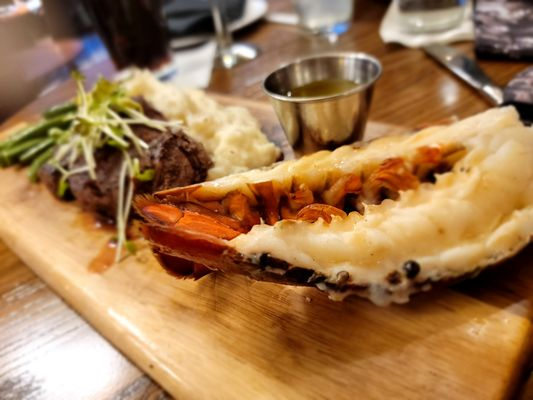pizza: (263, 52, 383, 158), (471, 0, 533, 62), (295, 0, 356, 41)
soup: (134, 123, 533, 309)
sushi: (263, 52, 384, 159)
